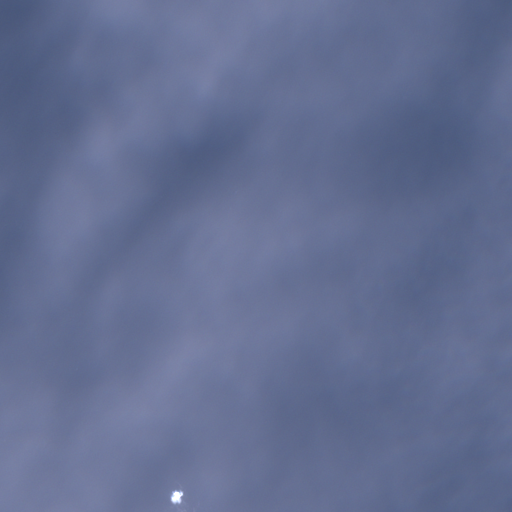Iceberg: (170, 491, 182, 504)
